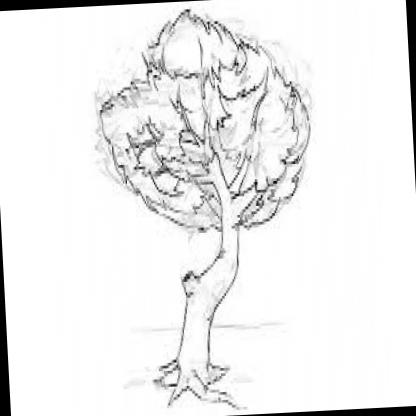branch_cut: (170, 97, 260, 210)
crown_dizzy: (92, 0, 316, 238)
root_only: (156, 345, 247, 416)
trunk_reflex: (173, 245, 246, 326)
